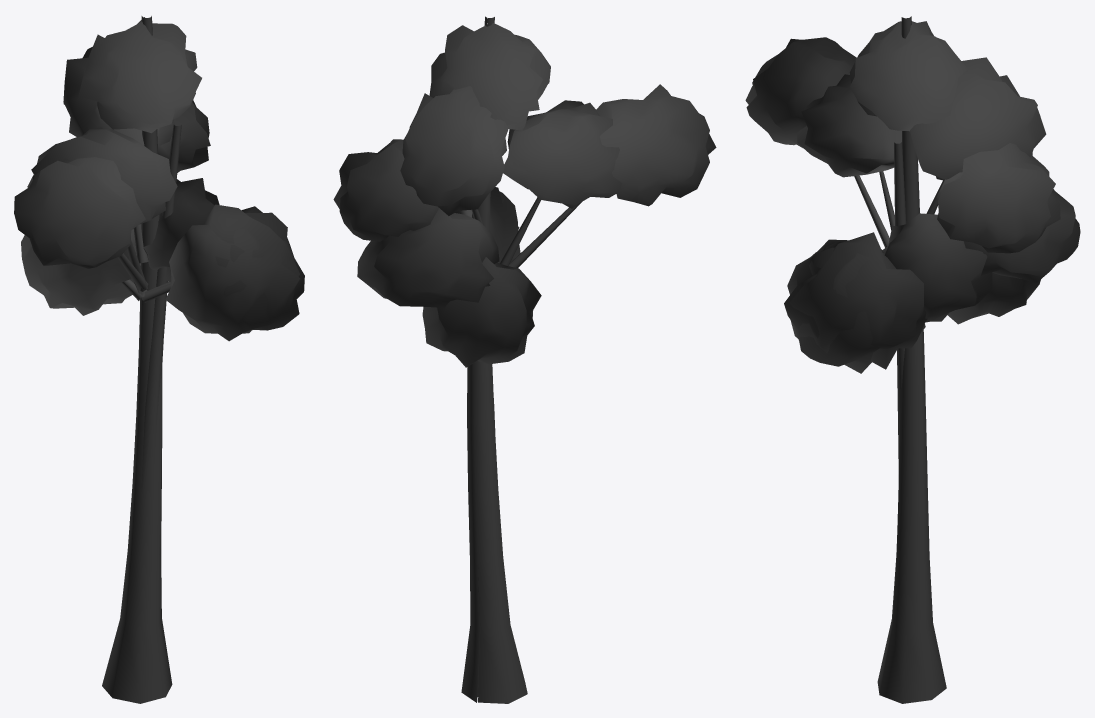
Rendered from taiga_rowan.glb.
3 views of the same model, side by side, from view 1: azimuth 30°, elevation 25°; view 2: azimuth 150°, elevation 25°; view 3: azimuth 270°, elevation 25° (orthographic).
Visible parts, largest first — view 1: foliage, bark; view 2: foliage, bark; view 3: foliage, bark.
Boxes of the visible parts, x1,y1,x2,y2 form: foliage: (14, 17, 304, 341); bark: (102, 16, 181, 703); foliage: (333, 23, 716, 367); bark: (461, 16, 581, 703); foliage: (745, 21, 1080, 373); bark: (854, 16, 946, 703).
Size of the model in its own units: 3.31 by 7.21 by 3.23.
1 material, 1 textured.
